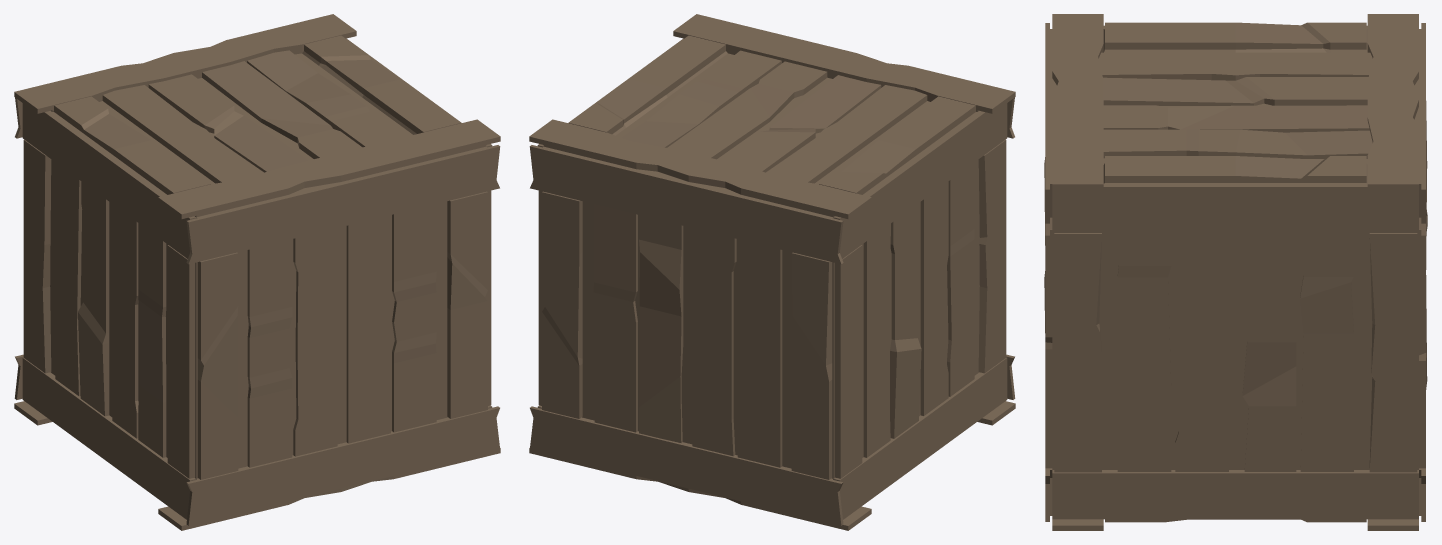
Rendered from box_wood01.fbx.
3 views of the same model, side by side, from view 1: azimuth 30°, elevation 25°; view 2: azimuth 150°, elevation 25°; view 3: azimuth 270°, elevation 25° (orthographic). The views are drawn at different scales.
Parts seen in each view (by area): view 1: box_wood01; view 2: box_wood01; view 3: box_wood01.
Part boxes in pixels (left/top/right/bottom): box_wood01: left=14, top=14, right=500, bottom=530; box_wood01: left=529, top=14, right=1015, bottom=530; box_wood01: left=1044, top=14, right=1427, bottom=530.
Size of the model in its own units: 1.49 by 1.41 by 1.42.
